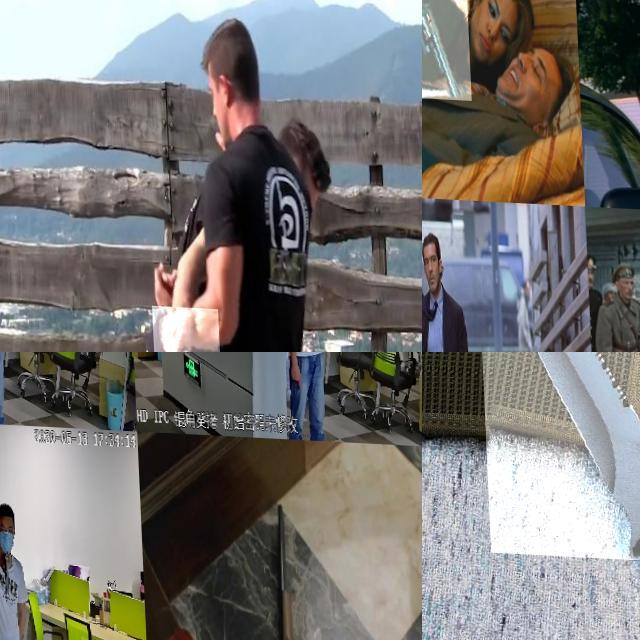-: (476, 352, 640, 560), (149, 303, 217, 352)
gun-knife-thesis - v11 Yolov5 augmented: (263, 484, 309, 640), (422, 0, 469, 98), (316, 352, 337, 374), (0, 352, 20, 368), (0, 545, 5, 594)
